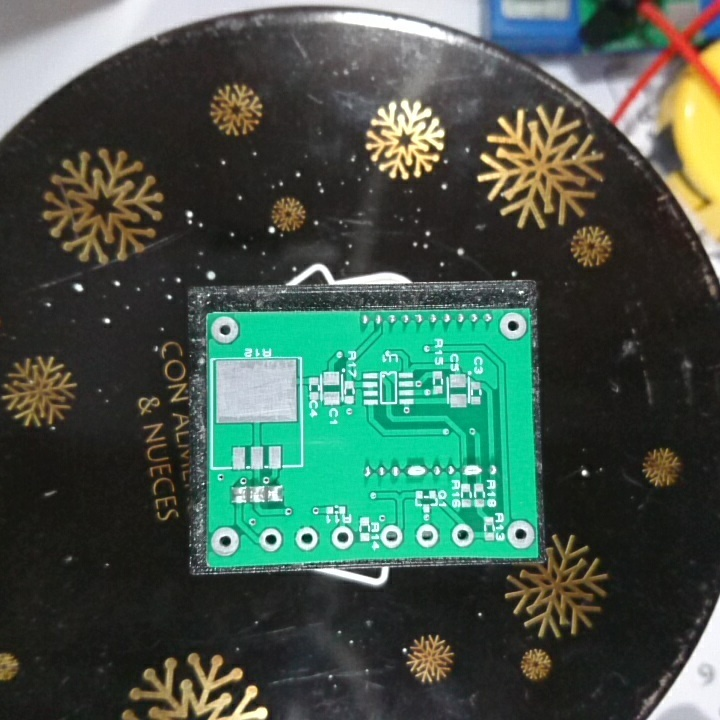F: (207, 526, 246, 560), (210, 311, 242, 347), (506, 518, 537, 551), (497, 311, 527, 342), (257, 525, 286, 555), (378, 521, 407, 550), (414, 521, 441, 550), (329, 522, 355, 551), (450, 523, 478, 549), (294, 525, 318, 552)
P: (403, 461, 428, 485), (459, 462, 486, 482)
